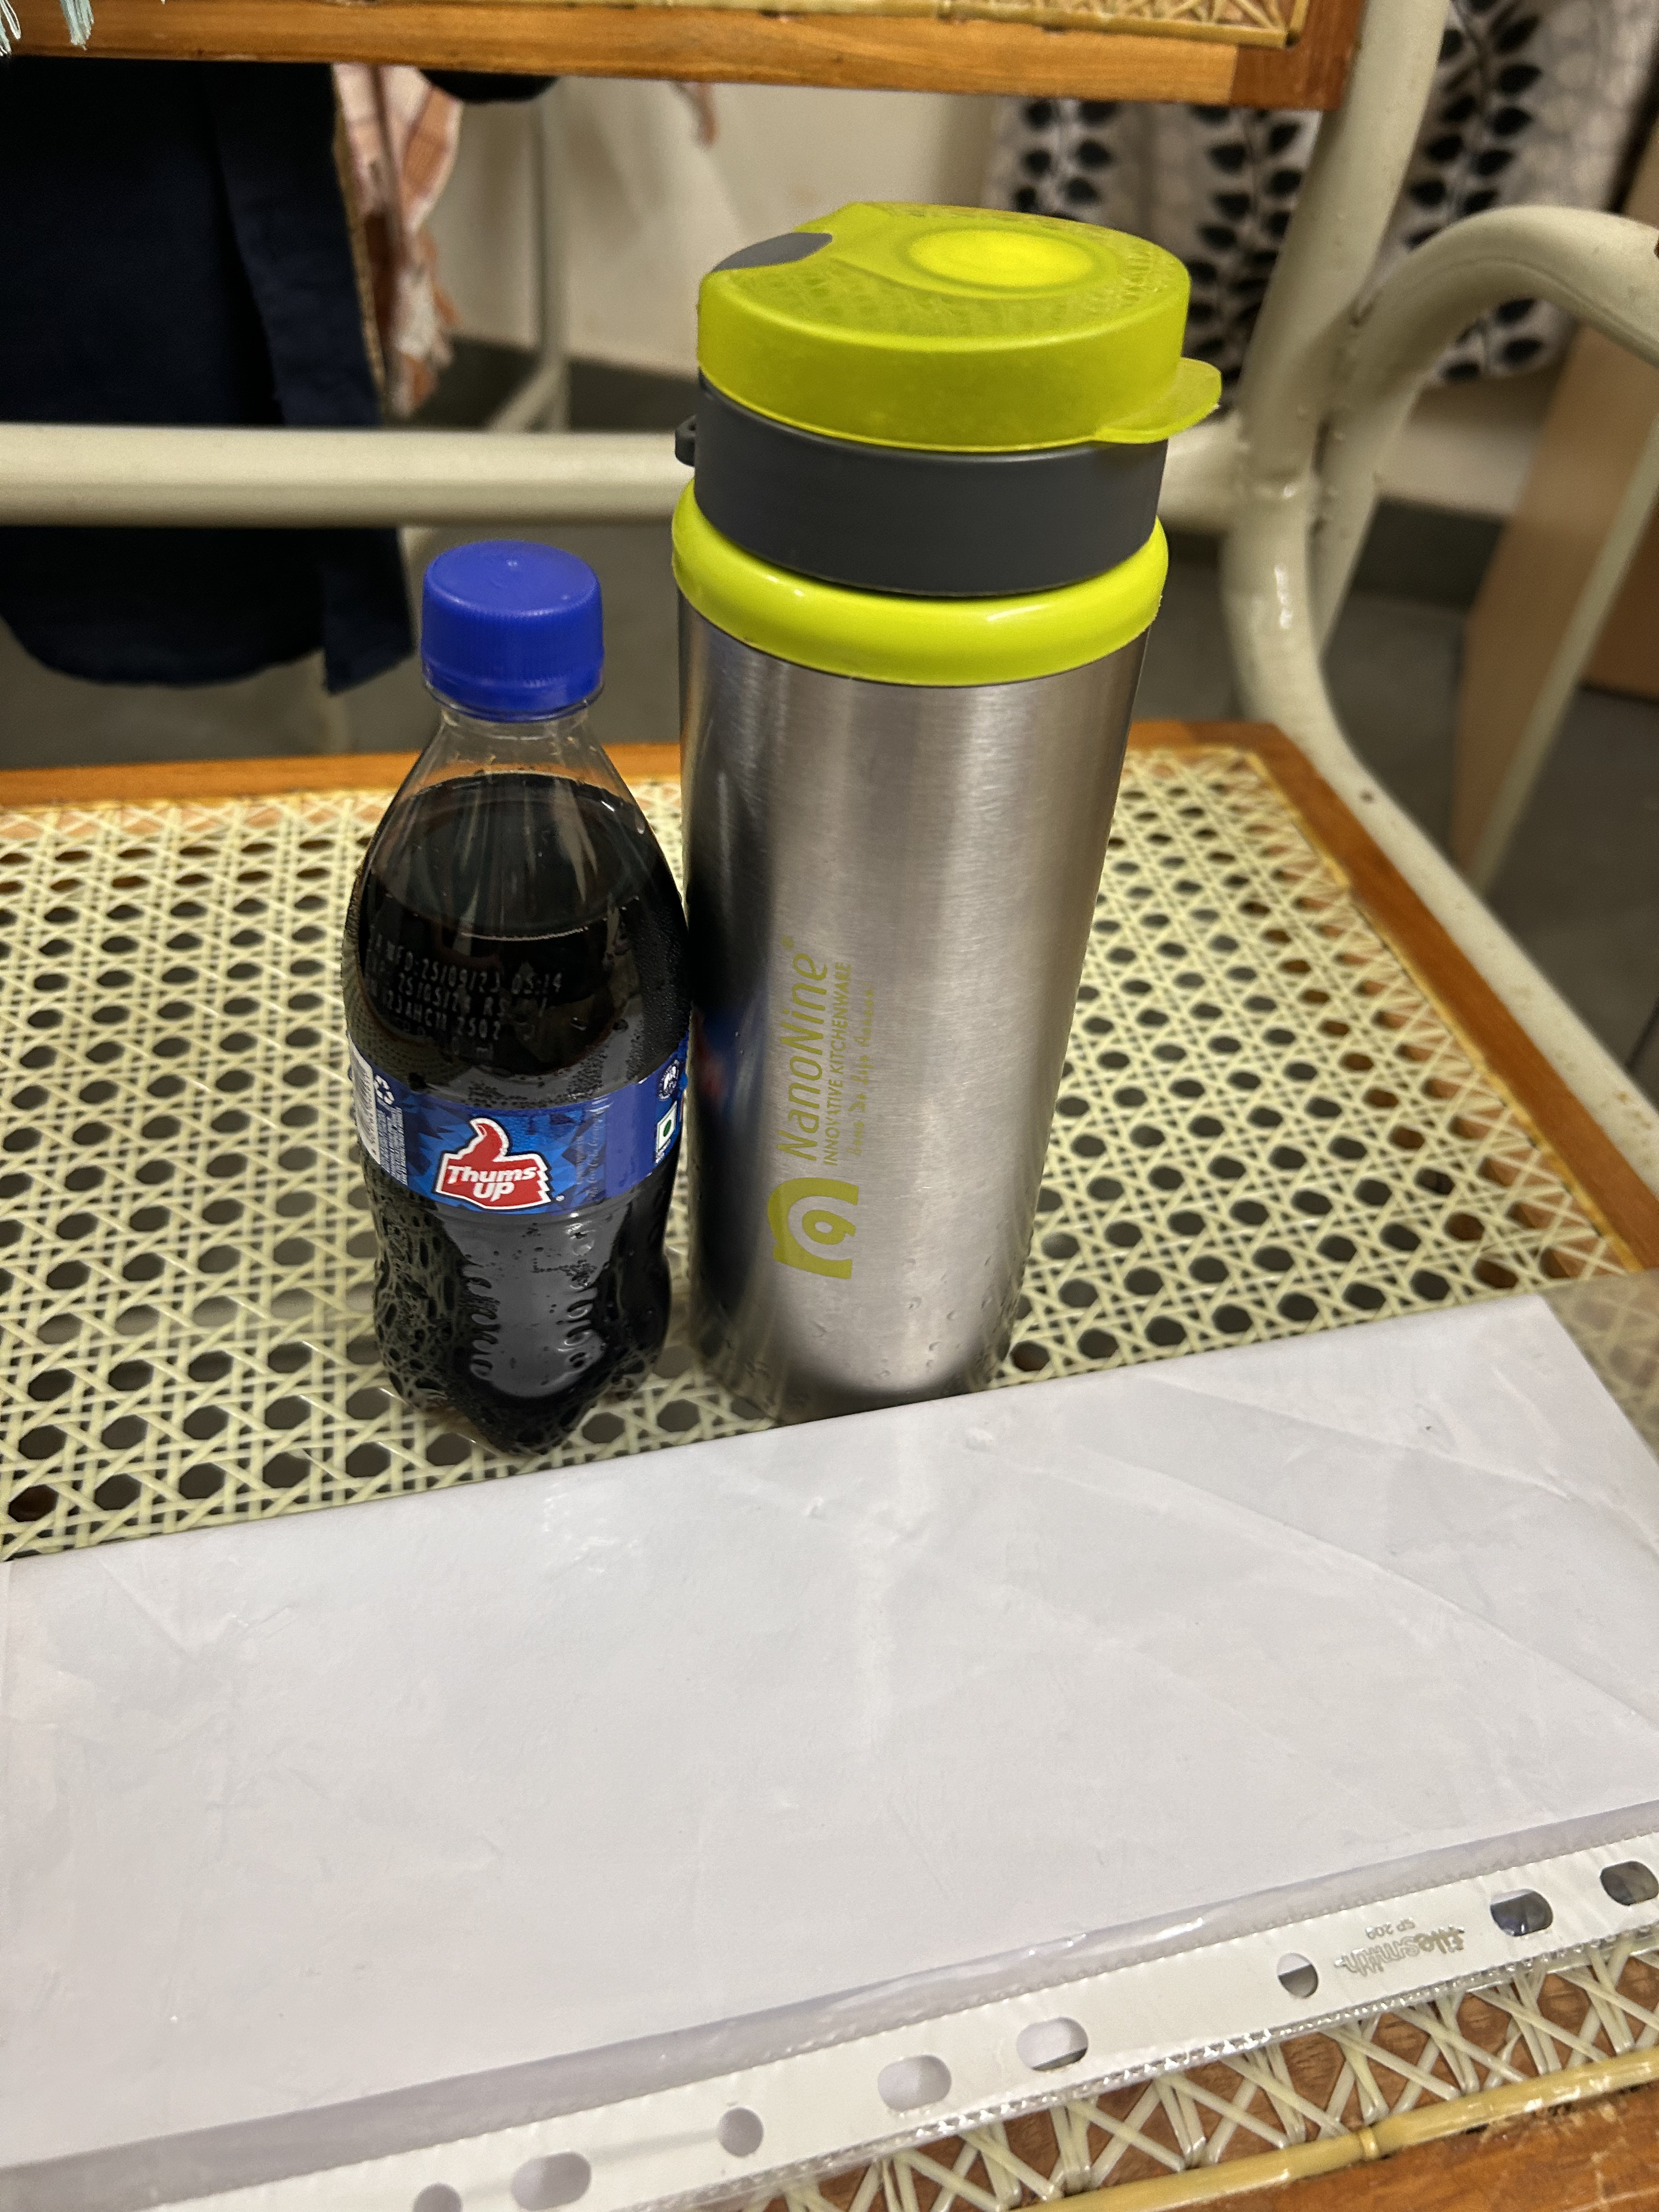sealstable: (403, 519, 629, 900)
